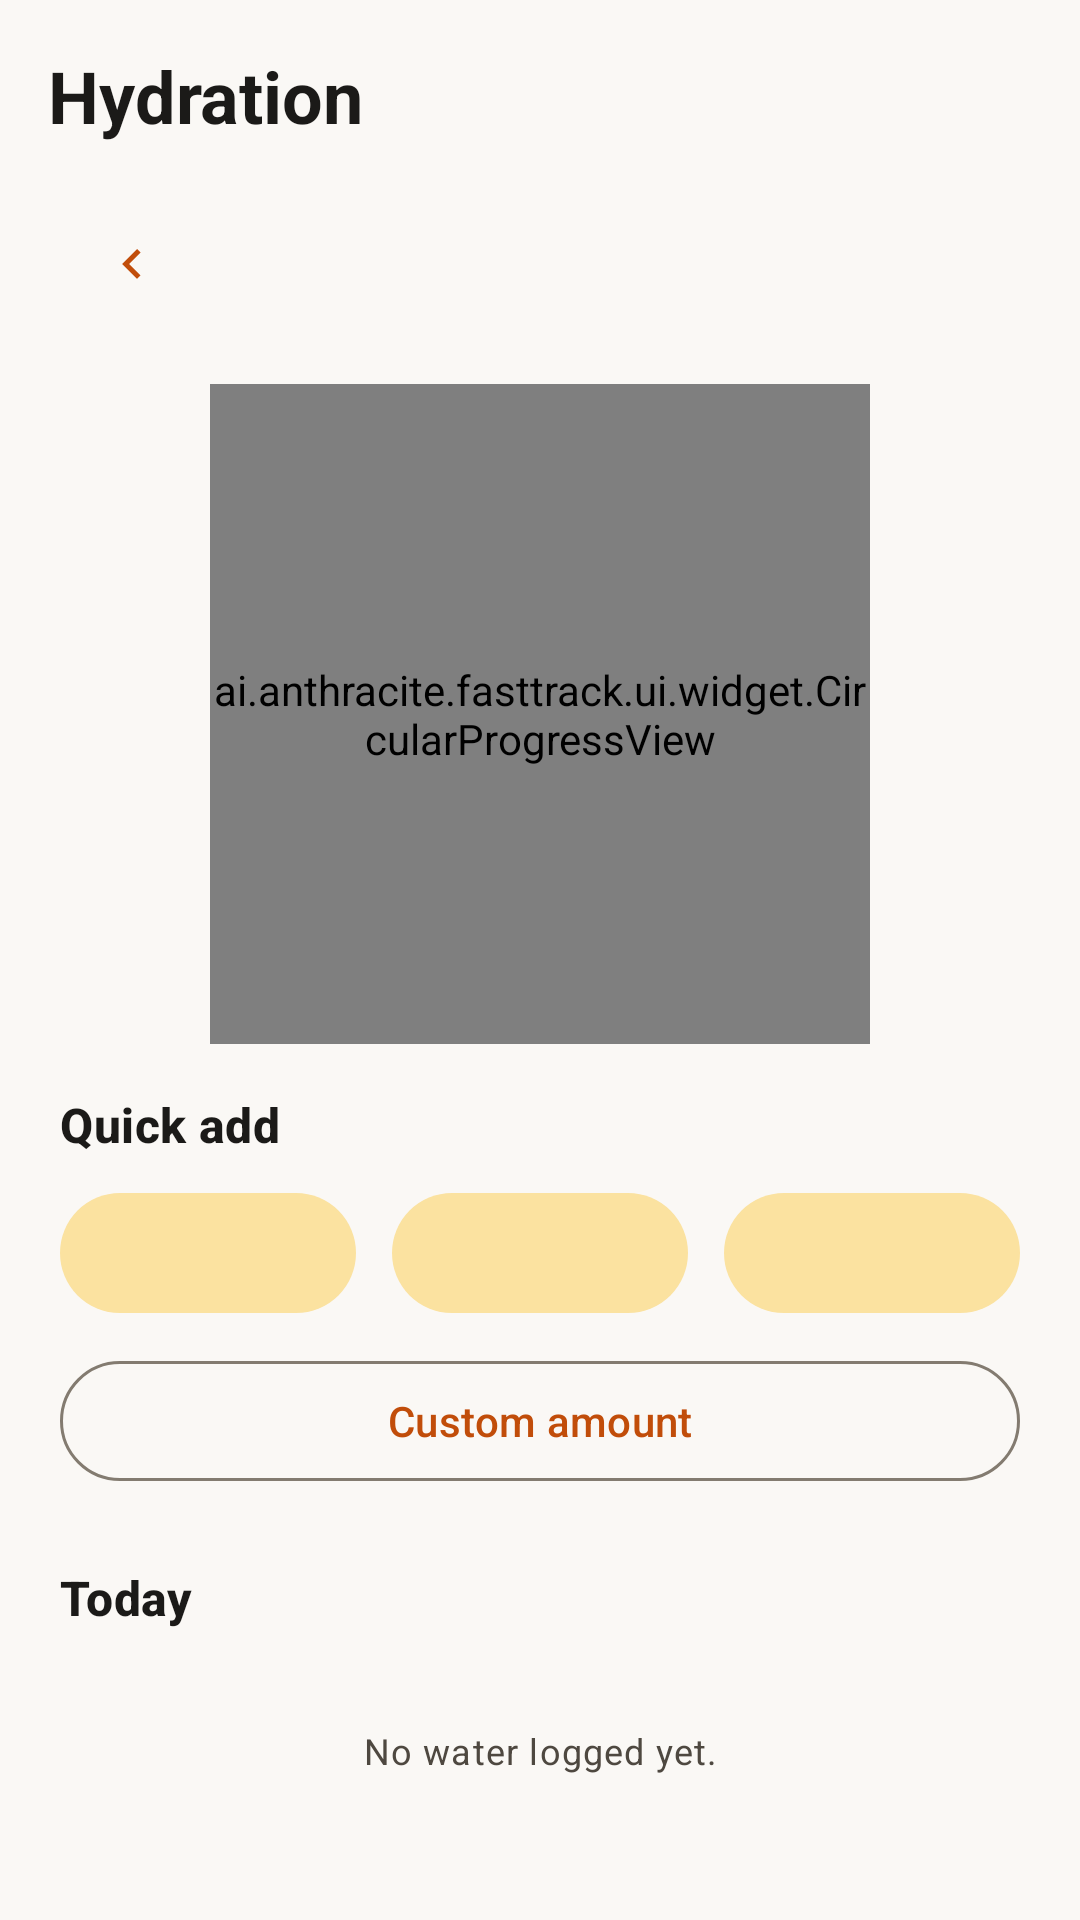

Point at icon controls on the screen. Image size 1080 × 1920, points as (x,y).
Previous day: (131,264)
